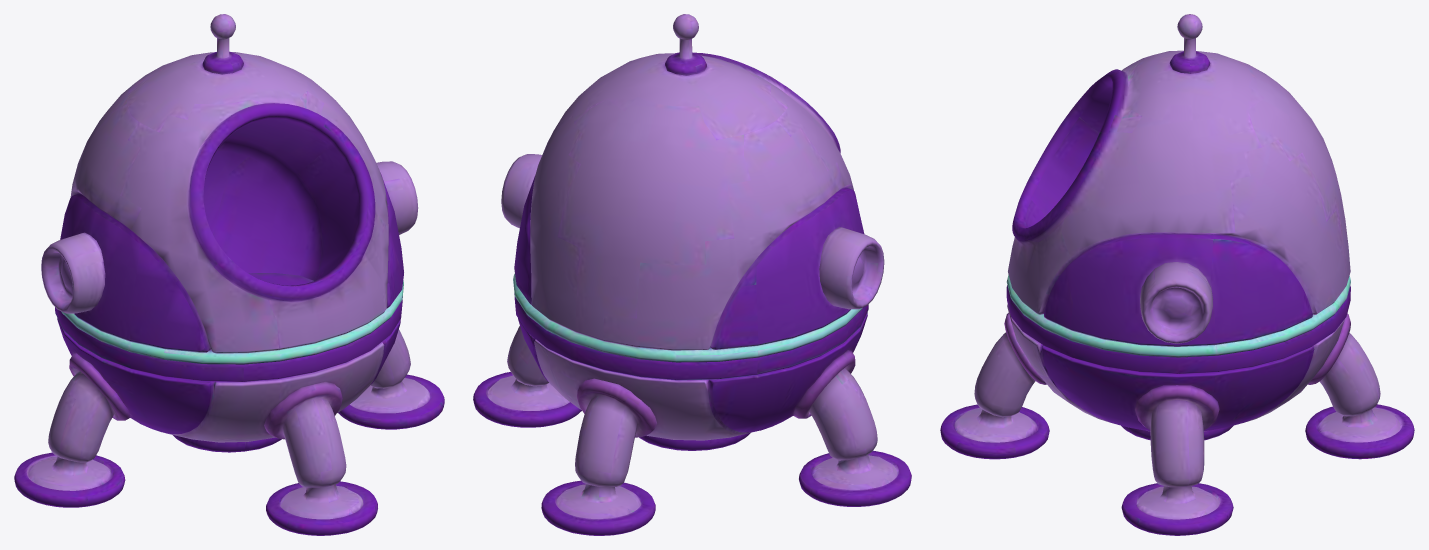
File: moon_alien_lander.glb
3 views of the same model, side by side, from view 1: azimuth 30°, elevation 25°; view 2: azimuth 150°, elevation 25°; view 3: azimuth 270°, elevation 25° (orthographic). The views are drawn at different scales.
Parts seen in each view (by area): view 1: moon_alien_lander; view 2: moon_alien_lander; view 3: moon_alien_lander.
Boxes of the visible parts, x1,y1,x2,y2 form: moon_alien_lander: (14, 14, 444, 535); moon_alien_lander: (473, 14, 911, 535); moon_alien_lander: (940, 14, 1414, 535).
Size of the model in its own units: 6.5 by 6.39 by 6.5.
1 material, 1 textured.
